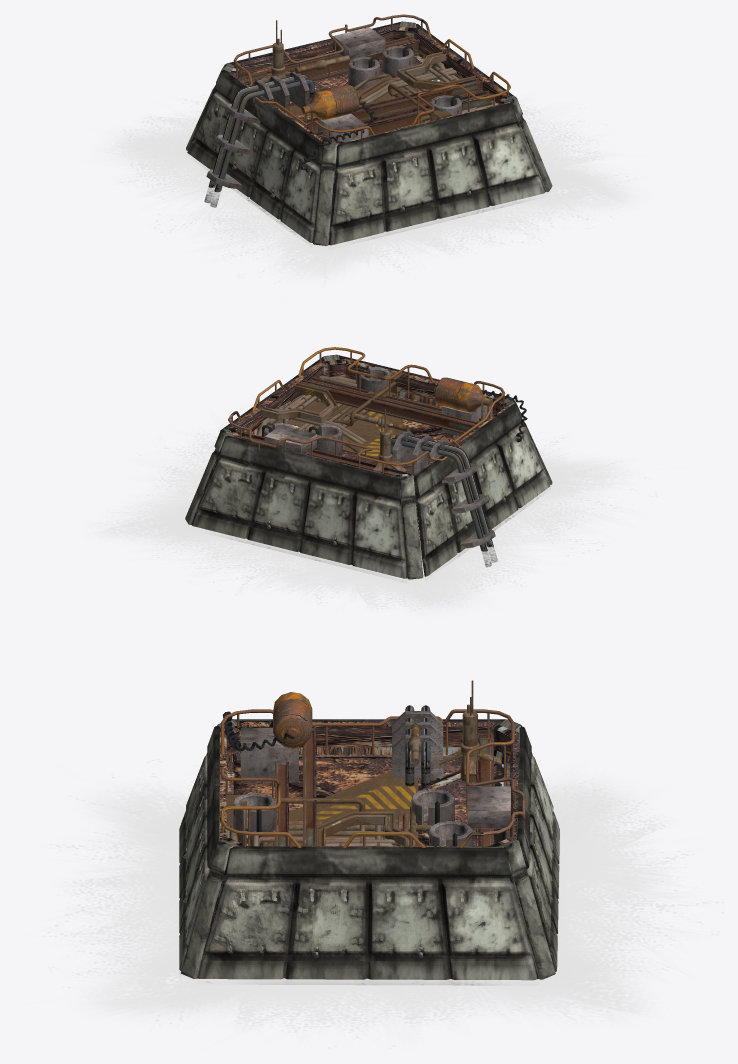
The model's file is static.glb.
3 renders of one model, top to bottom at view 1: azimuth 30°, elevation 25°; view 2: azimuth 150°, elevation 25°; view 3: azimuth 270°, elevation 25°, orthographic. The views are drawn at different scales.
Visible parts, largest first — view 1: scorch, Plane_16, Plane_8, Extrude, SM_obj_PipeWall, Sweep, Sweep_9, Cube_2_2, Plane_6, drum_remesh, Cube_1, Cube_14 (+7 smaller); view 2: scorch, Plane_4, Plane_8, Extrude, SM_obj_PipeWall, Cube_2_2, Sweep, Sweep_9, Plane, drum_remesh, Sweep_5, Boole_1 (+6 smaller); view 3: scorch, Plane_12, Extrude, SM_obj_PipeWall, Plane_4, Plane_16, Sweep, Plane_10, Plane_14, Boole_1_3, drum_remesh, Boole_1 (+10 smaller).
Part boxes in pixels (x1=…): scorch: x1=98, y1=56, x2=641, y2=286; Plane_16: x1=329, y1=103, x2=545, y2=245; Plane_8: x1=187, y1=70, x2=322, y2=242; Extrude: x1=229, y1=25, x2=509, y2=143; SM_obj_PipeWall: x1=290, y1=62, x2=498, y2=122; Sweep: x1=233, y1=14, x2=510, y2=135; Sweep_9: x1=204, y1=74, x2=314, y2=207; Cube_2_2: x1=298, y1=78, x2=483, y2=132; Plane_6: x1=313, y1=141, x2=339, y2=245; drum_remesh: x1=301, y1=84, x2=359, y2=120; Cube_1: x1=238, y1=36, x2=419, y2=85; Cube_14: x1=313, y1=90, x2=493, y2=139; scorch: x1=88, y1=399, x2=657, y2=614; Plane_4: x1=191, y1=436, x2=406, y2=578; Plane_8: x1=413, y1=404, x2=550, y2=576; Extrude: x1=228, y1=358, x2=508, y2=477; SM_obj_PipeWall: x1=256, y1=371, x2=417, y2=514; Cube_2_2: x1=298, y1=379, x2=482, y2=434; Sweep: x1=228, y1=347, x2=505, y2=465; Sweep_9: x1=391, y1=433, x2=497, y2=567; Plane: x1=397, y1=475, x2=423, y2=579; drum_remesh: x1=434, y1=377, x2=492, y2=412; Sweep_5: x1=262, y1=383, x2=337, y2=423; Boole_1: x1=264, y1=425, x2=316, y2=454; scorch: x1=41, y1=759, x2=723, y2=1049; Plane_12: x1=198, y1=846, x2=537, y2=985; Extrude: x1=220, y1=721, x2=518, y2=846; SM_obj_PipeWall: x1=226, y1=770, x2=431, y2=846; Plane_4: x1=516, y1=726, x2=559, y2=971; Plane_16: x1=179, y1=726, x2=219, y2=970; Sweep: x1=220, y1=709, x2=525, y2=847; Plane_10: x1=497, y1=840, x2=555, y2=979; Plane_14: x1=181, y1=839, x2=238, y2=978; Boole_1_3: x1=240, y1=728, x2=298, y2=782; drum_remesh: x1=273, y1=692, x2=312, y2=748; Boole_1: x1=467, y1=786, x2=510, y2=828.
Bounding box in the file's own units: 10.62 × 3.36 × 10.62.
Materials: 10 (10 with a texture image).
